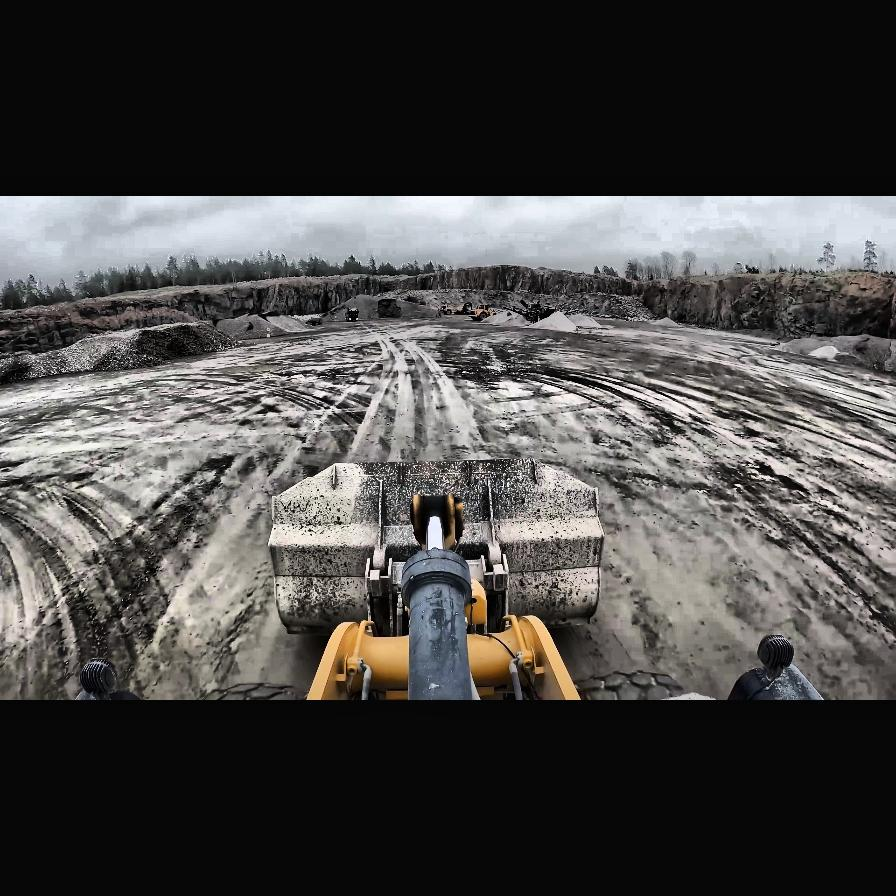anchor: (413, 493, 463, 551)
pile of gravel: (3, 320, 241, 390), (777, 332, 895, 374), (320, 293, 418, 321), (215, 312, 309, 338), (393, 289, 461, 311), (527, 310, 574, 332), (562, 312, 604, 330), (482, 309, 520, 325), (650, 316, 686, 328), (807, 346, 839, 358)
